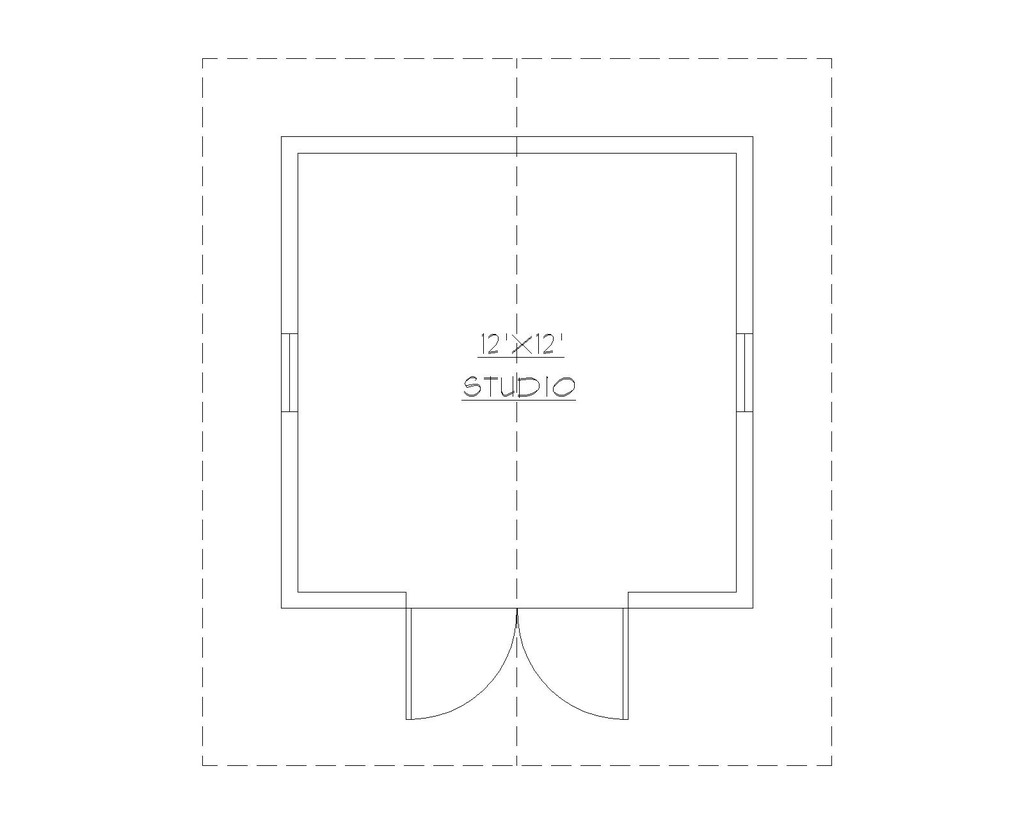door: (403, 606, 630, 728)
windows: (732, 327, 760, 424), (275, 330, 304, 418)
